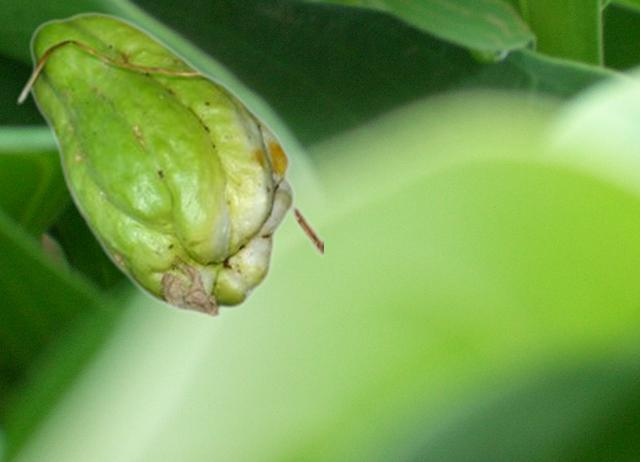sayote: (15, 11, 322, 318)
